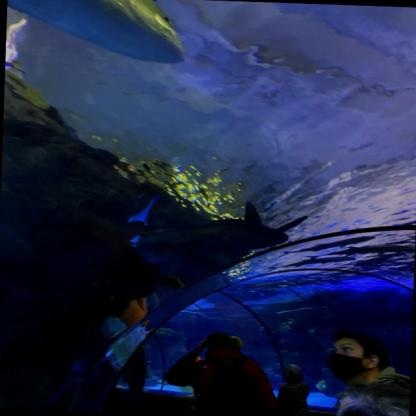shark: (66, 195, 302, 272)
